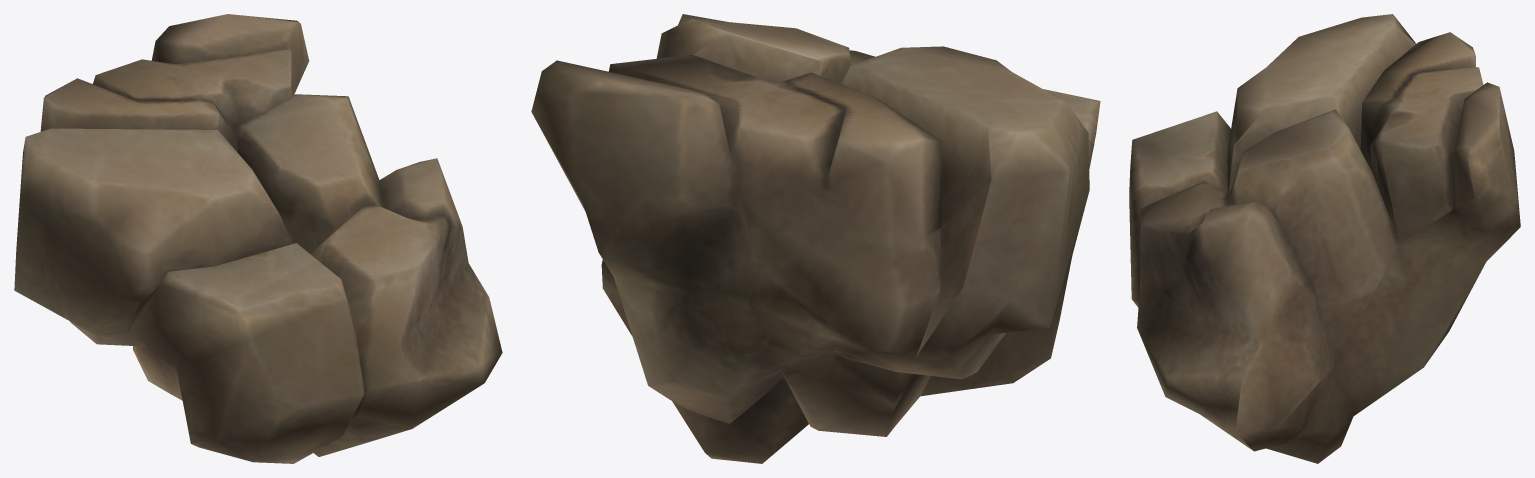
The model's file is Ground04_Terrain_LostTemple_001.FBX.
3 views of the same model, side by side, from view 1: azimuth 30°, elevation 25°; view 2: azimuth 150°, elevation 25°; view 3: azimuth 270°, elevation 25° (orthographic). The views are drawn at different scales.
Visible parts, largest first — view 1: Ground04_Terrain_LostTemple_001; view 2: Ground04_Terrain_LostTemple_001; view 3: Ground04_Terrain_LostTemple_001.
Boxes of the visible parts, x1,y1,x2,y2 form: Ground04_Terrain_LostTemple_001: [14, 14, 502, 463]; Ground04_Terrain_LostTemple_001: [531, 14, 1100, 463]; Ground04_Terrain_LostTemple_001: [1129, 14, 1520, 463].
Size of the model in its own units: 548 by 463 by 476.
Materials: 1 (1 with a texture image).
